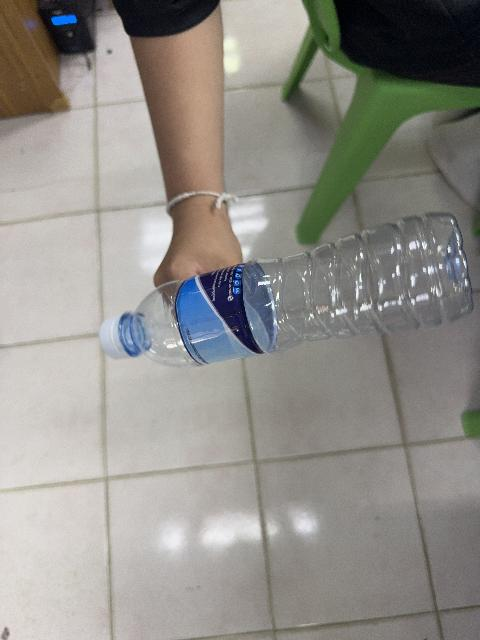bottle: (100, 214, 472, 365)
